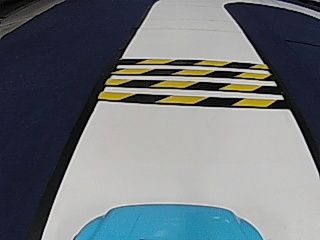bump: (124, 58, 258, 111)
